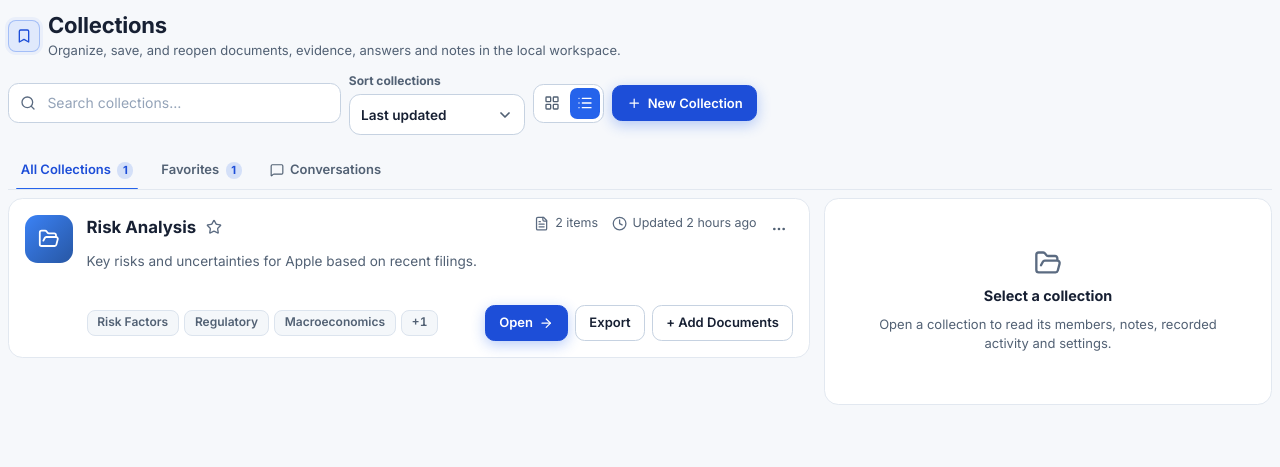
Test: CollectionsWorkspace › a revision conflict while favouriting is reported as a conflict
The image size is (1280, 467).
Click the button named "Mark Risk Analysis as favorite".
click(214, 227)  # box [202,215,226,239]
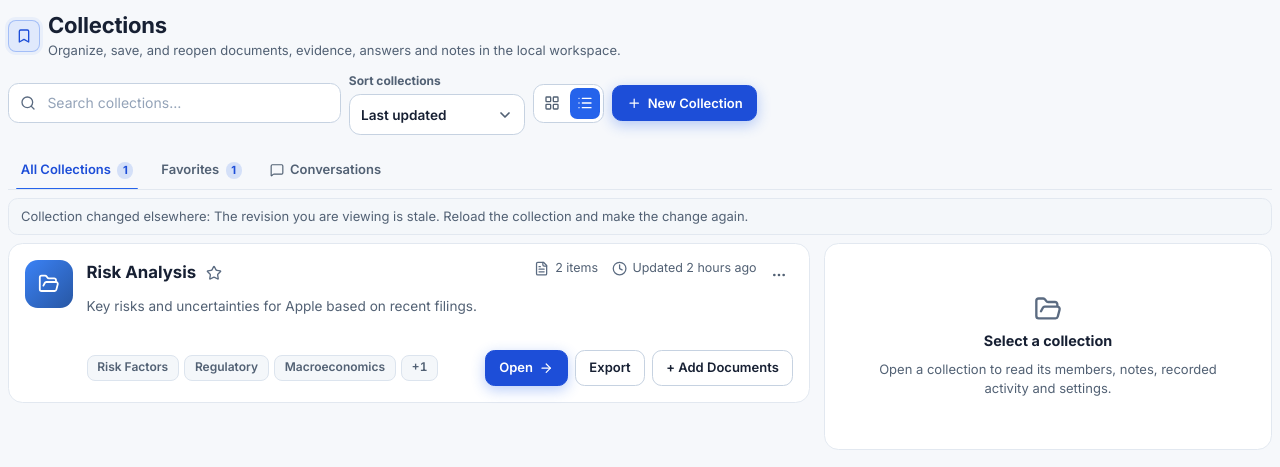
Now the text "changed elsewhere" is shown, box [21,208,748,224]
